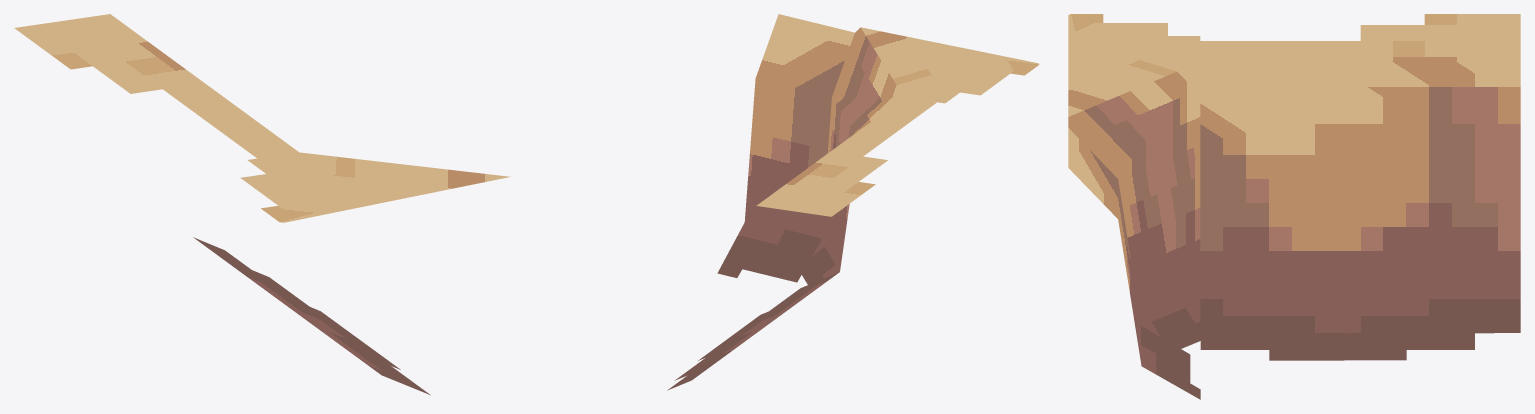
3 renders of one model, left to right at view 1: azimuth 30°, elevation 25°; view 2: azimuth 150°, elevation 25°; view 3: azimuth 270°, elevation 25°, orthographic. The views are drawn at different scales.
Size of the model in its own units: 0.7236 by 0.6035 by 1.
Materials: 1 (1 with a texture image).
